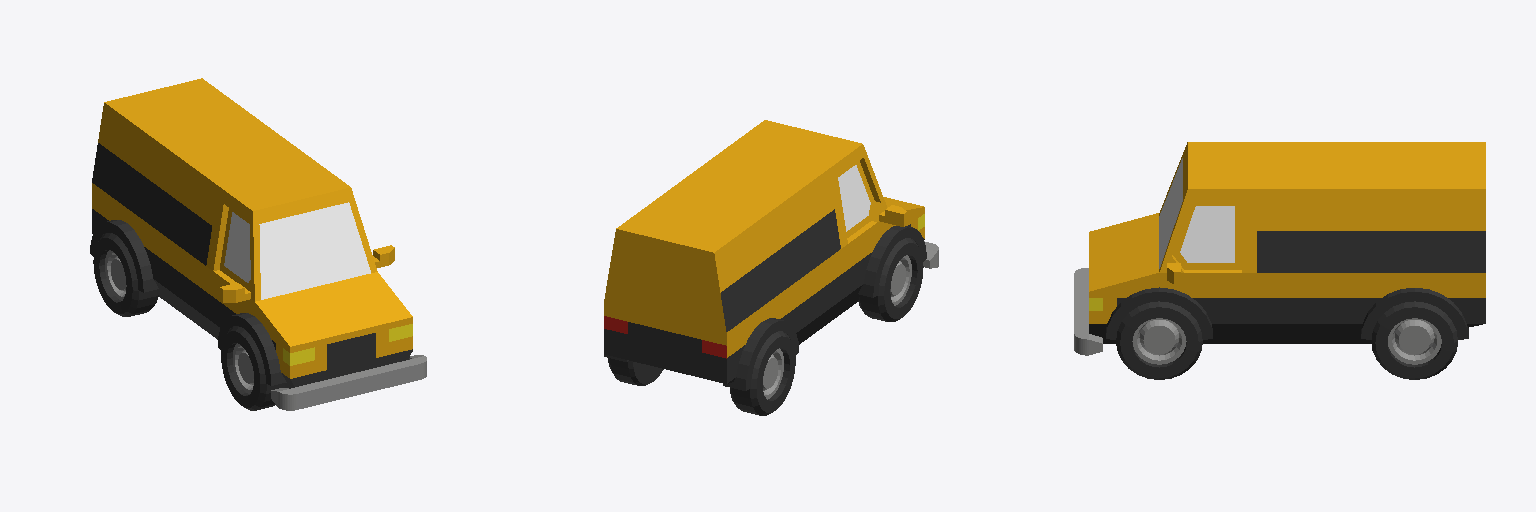
File: van_yellow.obj
3 renders of one model, left to right at view 1: azimuth 30°, elevation 25°; view 2: azimuth 150°, elevation 25°; view 3: azimuth 270°, elevation 25°, orthographic.
Parts seen in each view (by area): view 1: mergedBlocks; view 2: mergedBlocks; view 3: mergedBlocks.
Part boxes in pixels (x1,y1,x2,y2): mergedBlocks: (90, 78, 426, 410); mergedBlocks: (604, 120, 938, 415); mergedBlocks: (1074, 142, 1485, 379).
Size of the model in its own units: 1.4 by 1.41 by 2.9.